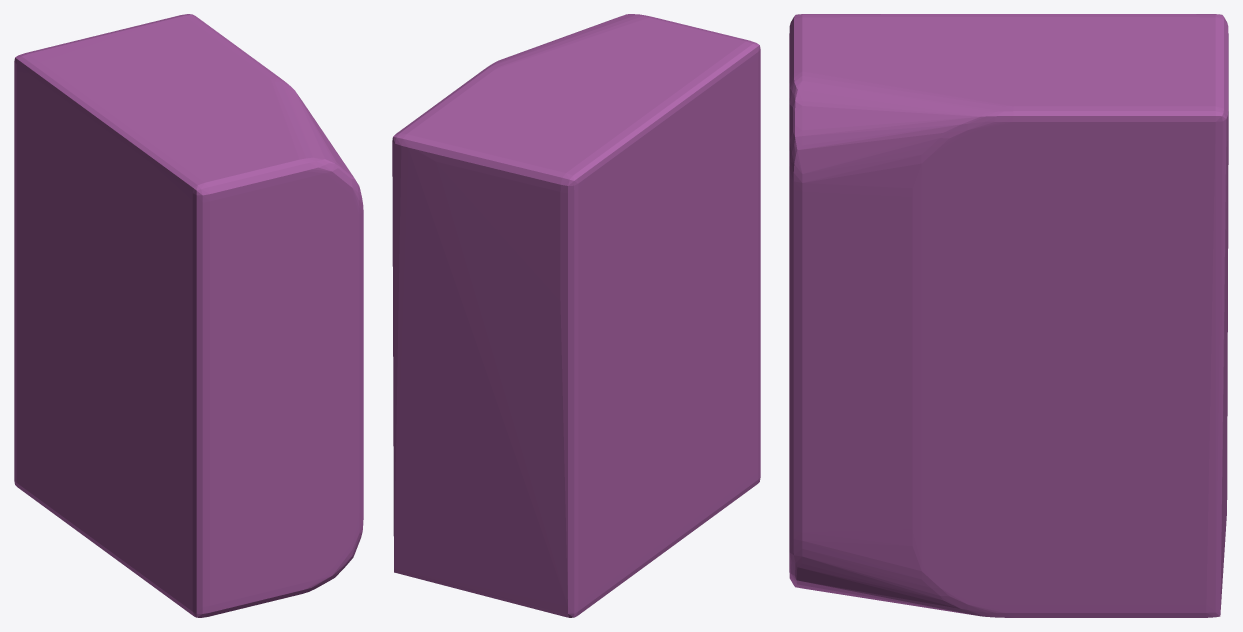
File: left_lf_metacarpal_part_7.obj
The picture shows the model from 3 angles, left to right: view 1: azimuth 30°, elevation 25°; view 2: azimuth 150°, elevation 25°; view 3: azimuth 270°, elevation 25°; orthographic projection. The views are drawn at different scales.
Size of the model in its own units: 9.72 by 22.4 by 17.53.
